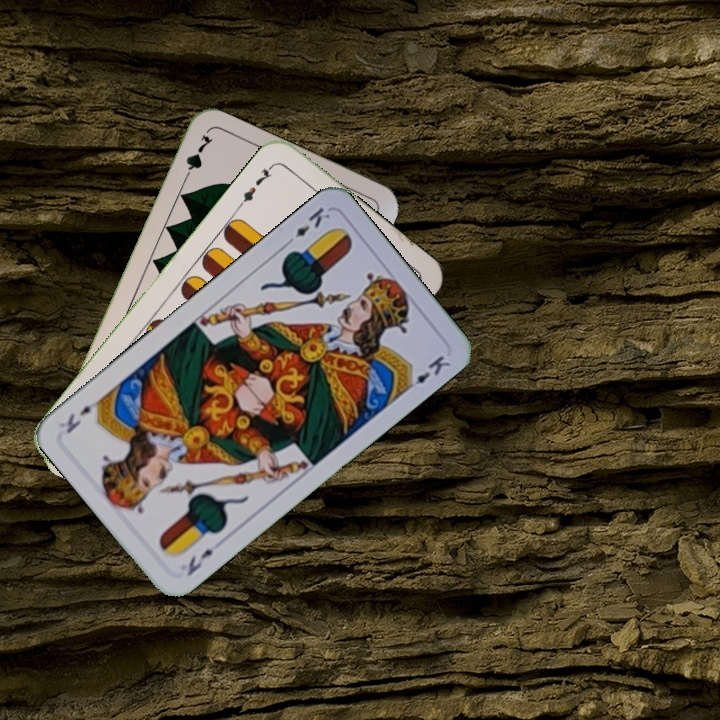E7: (234, 160, 277, 210)
EK: (281, 203, 333, 249), (183, 544, 216, 579)
G7: (178, 130, 215, 186)
